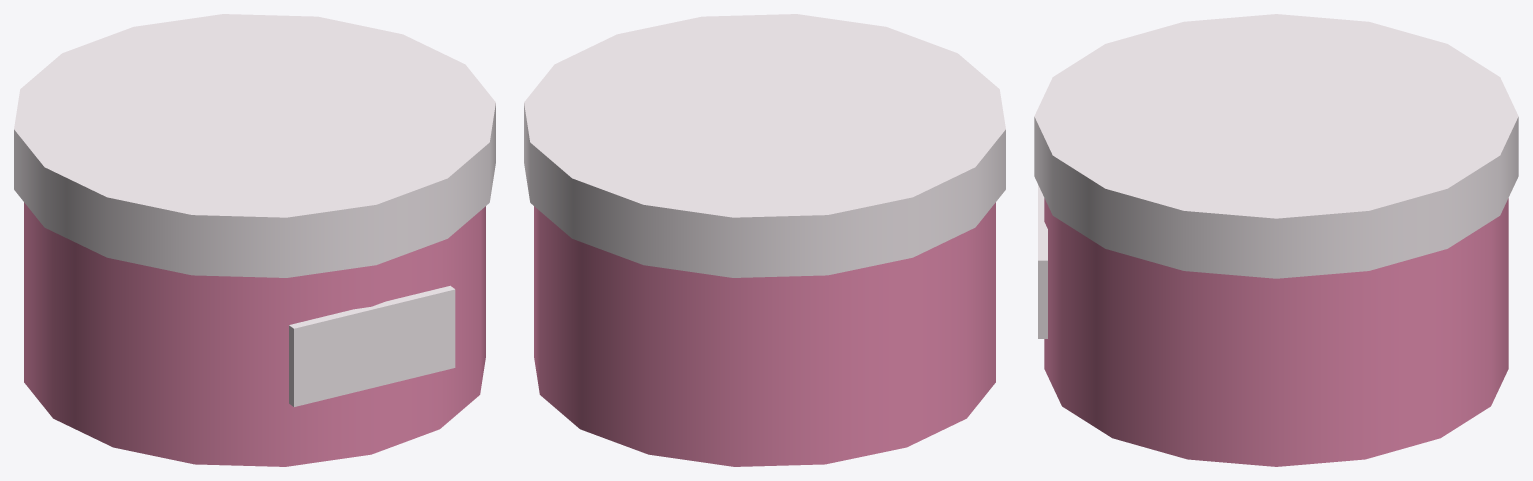
The model's file is TRD-02-01.glb.
3 views of the same model, side by side, from view 1: azimuth 30°, elevation 25°; view 2: azimuth 150°, elevation 25°; view 3: azimuth 270°, elevation 25° (orthographic).
Visible parts, largest first — view 1: TRD-02-01; view 2: TRD-02-01; view 3: TRD-02-01.
Boxes of the visible parts, <box> form: TRD-02-01: <box>14,14,495,466</box>; TRD-02-01: <box>524,14,1005,466</box>; TRD-02-01: <box>1034,14,1518,466</box>.
Bounding box in the file's own units: 0.73 × 0.42 × 0.73.
